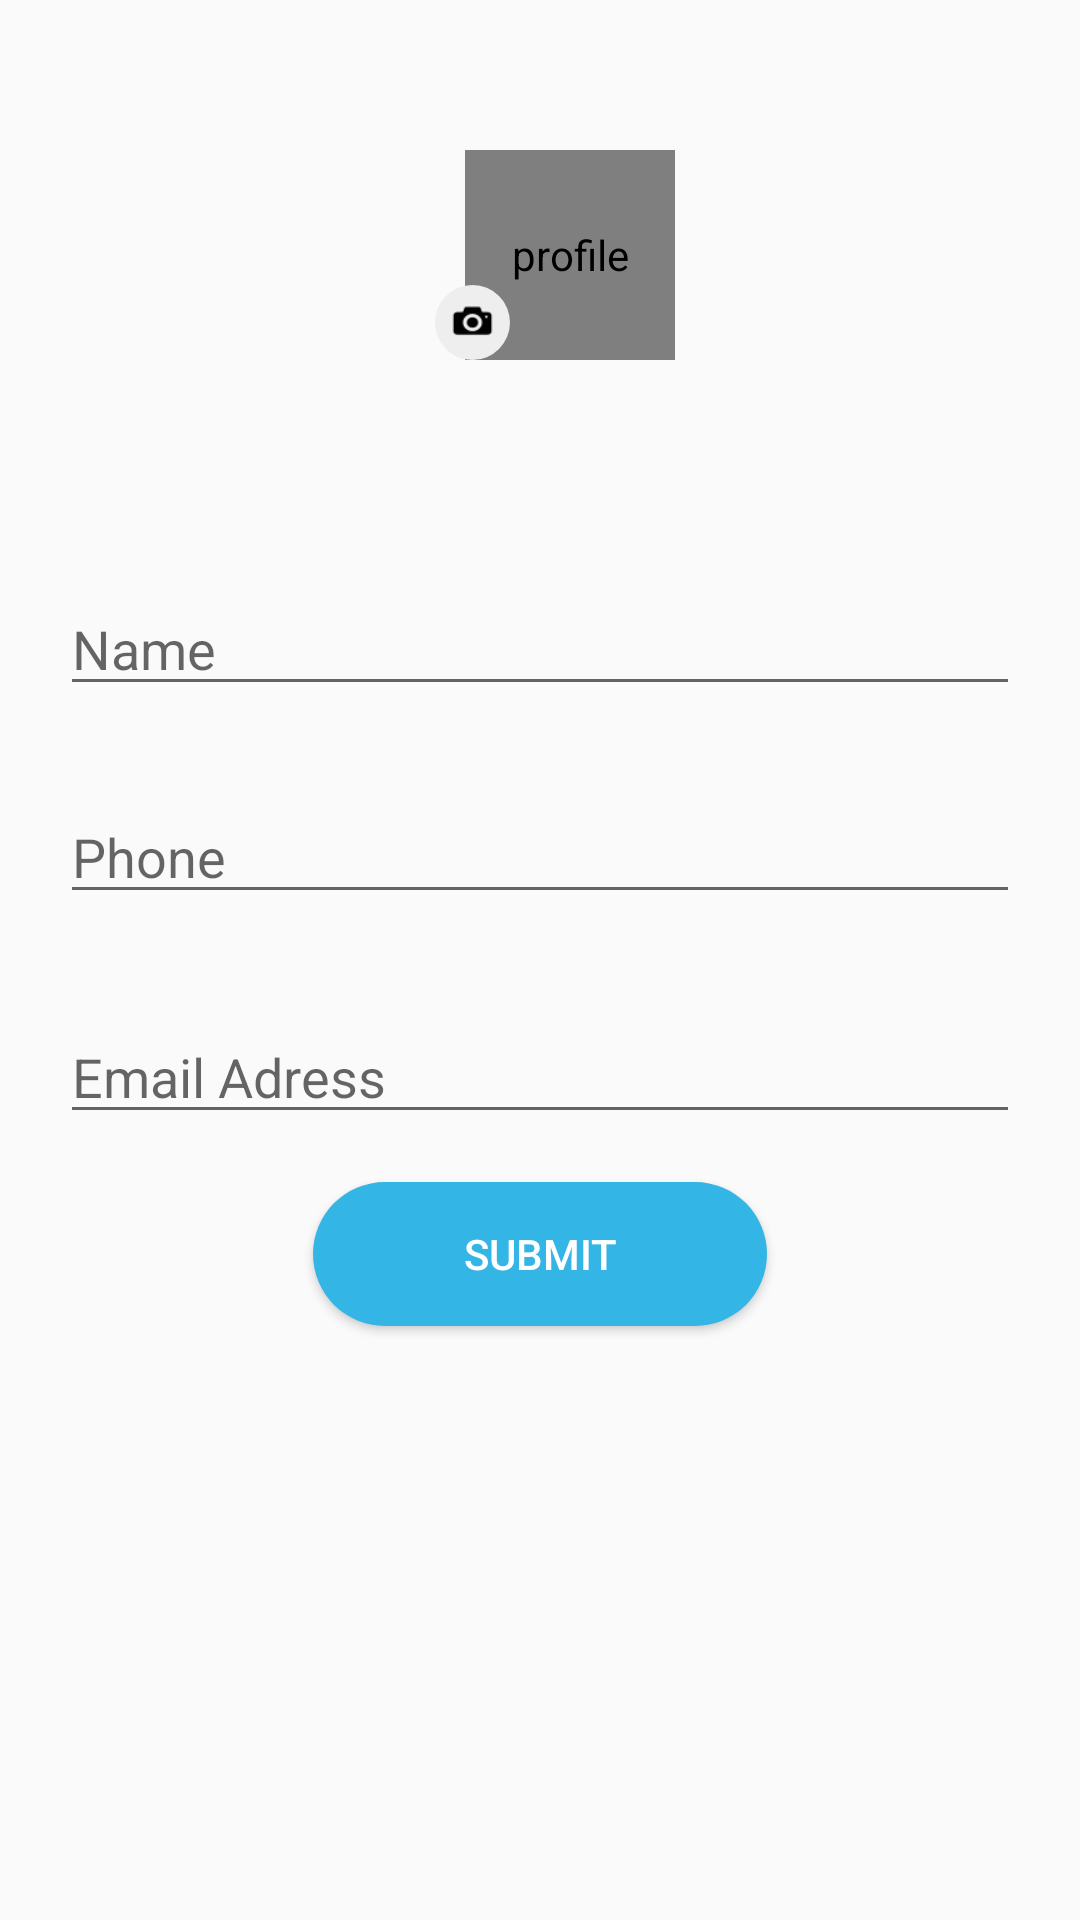

Locate icon controls on the screen. Image size 1080 × 1920, boxes as [x1, y1, x2, y2].
camera: [452, 306, 493, 335]
